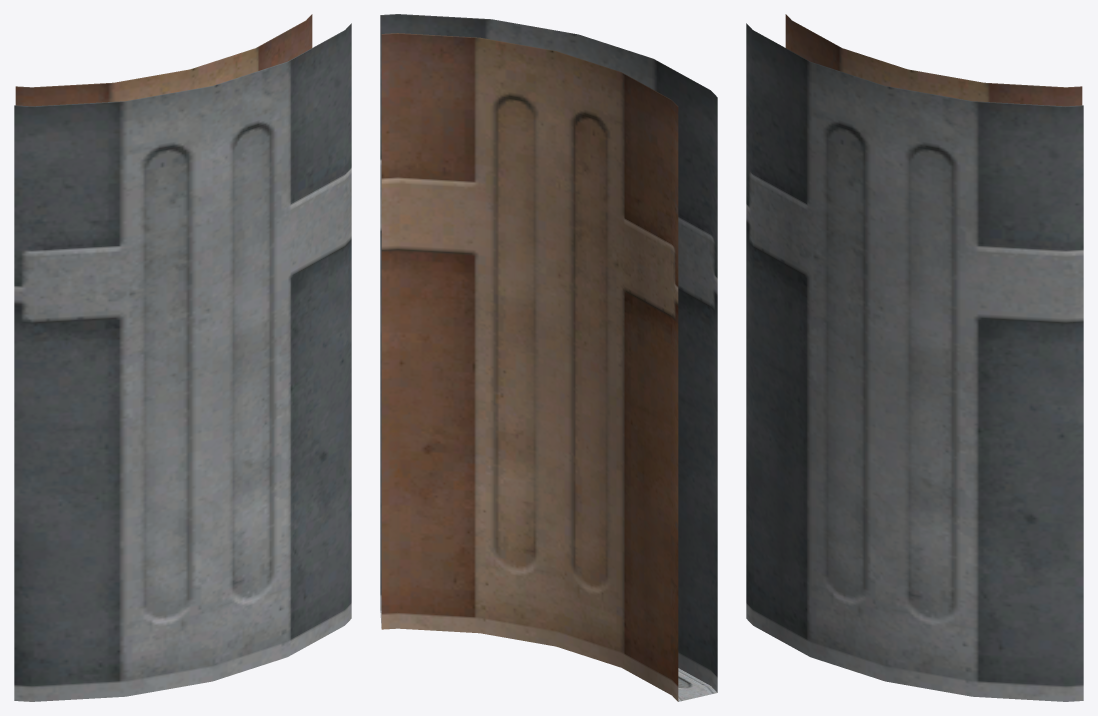
Rendered from door_nboo_emp_s08.fbx.
3 views of the same model, side by side, from view 1: azimuth 30°, elevation 25°; view 2: azimuth 150°, elevation 25°; view 3: azimuth 330°, elevation 25° (orthographic).
Parts seen in each view (by area): view 1: mesh_node; view 2: mesh_node; view 3: mesh_node.
Part boxes in pixels (x1,y1,x2,y2): mesh_node: (14,14,351,701); mesh_node: (380,14,717,701); mesh_node: (746,14,1083,701).
Bounding box in the file's own units: 2.58 × 4.36 × 0.6481.
